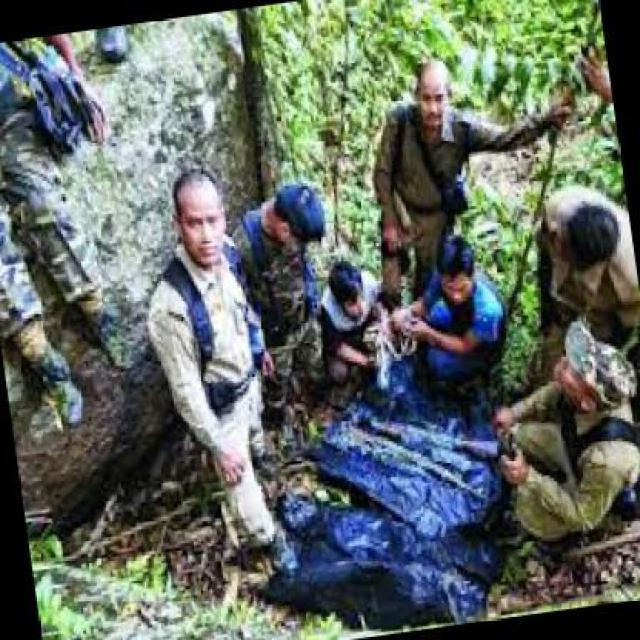poacher: (148, 160, 257, 565), (484, 335, 640, 529), (374, 52, 500, 262), (258, 148, 329, 406), (516, 174, 632, 311), (312, 256, 385, 366)
